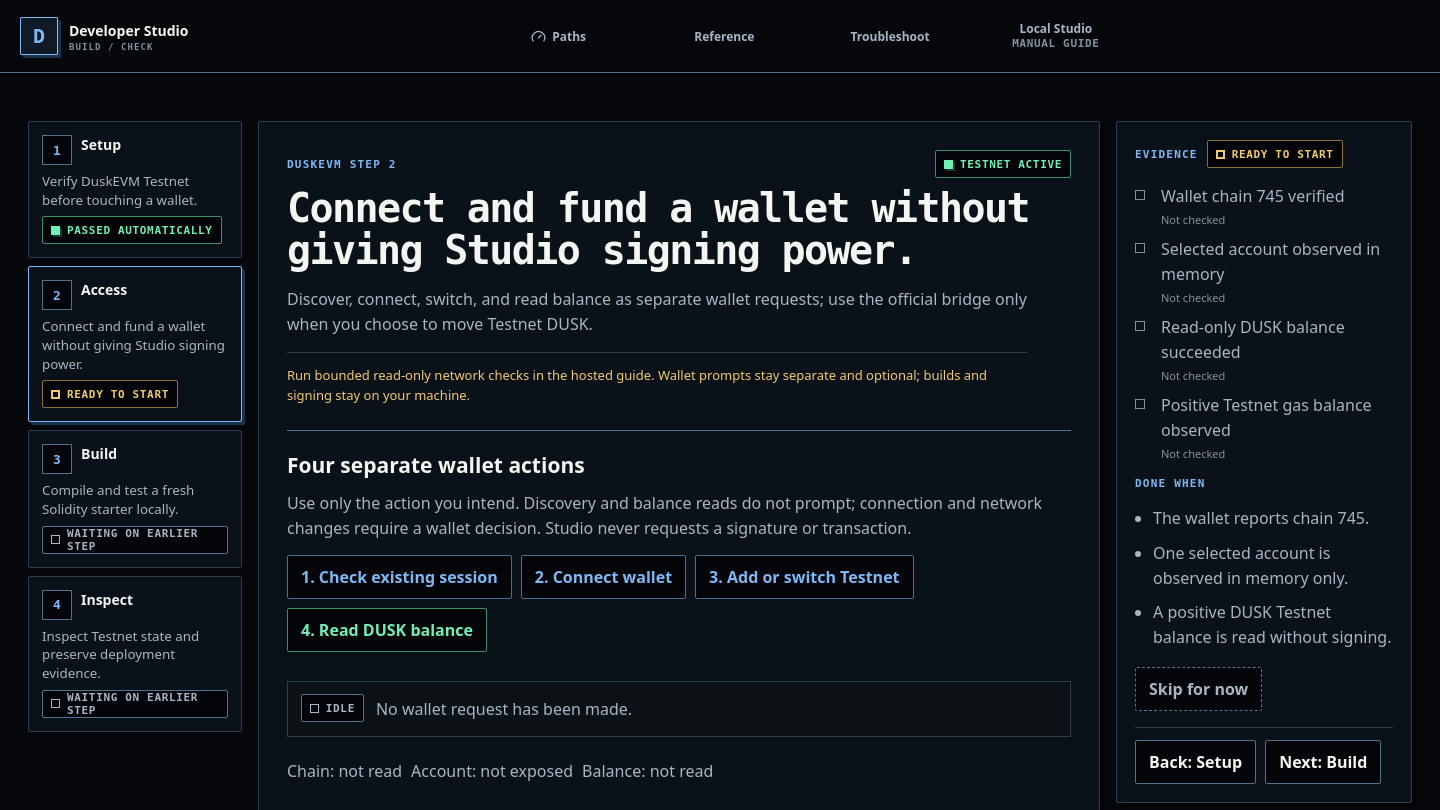
Test: Phase 2 evidence journeys › discards a wallet result that resolves after Setup evidence expires
Click the button "2. Connect wallet" at (603, 576), box [521, 554, 686, 598]
Wait 901000 ms
(page scrolled)
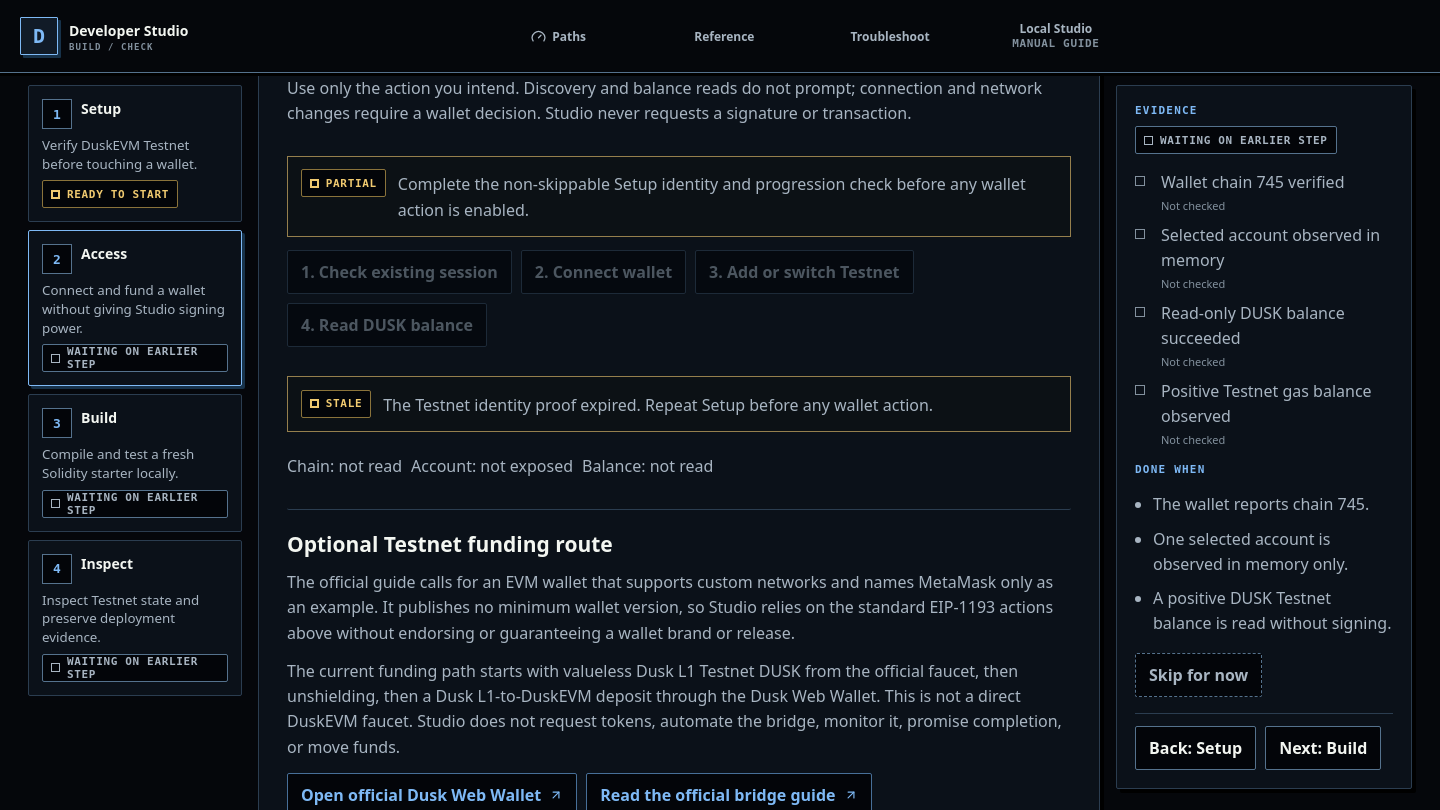
Expected: the text "identity proof expired" is shown, [383, 394, 933, 416]
